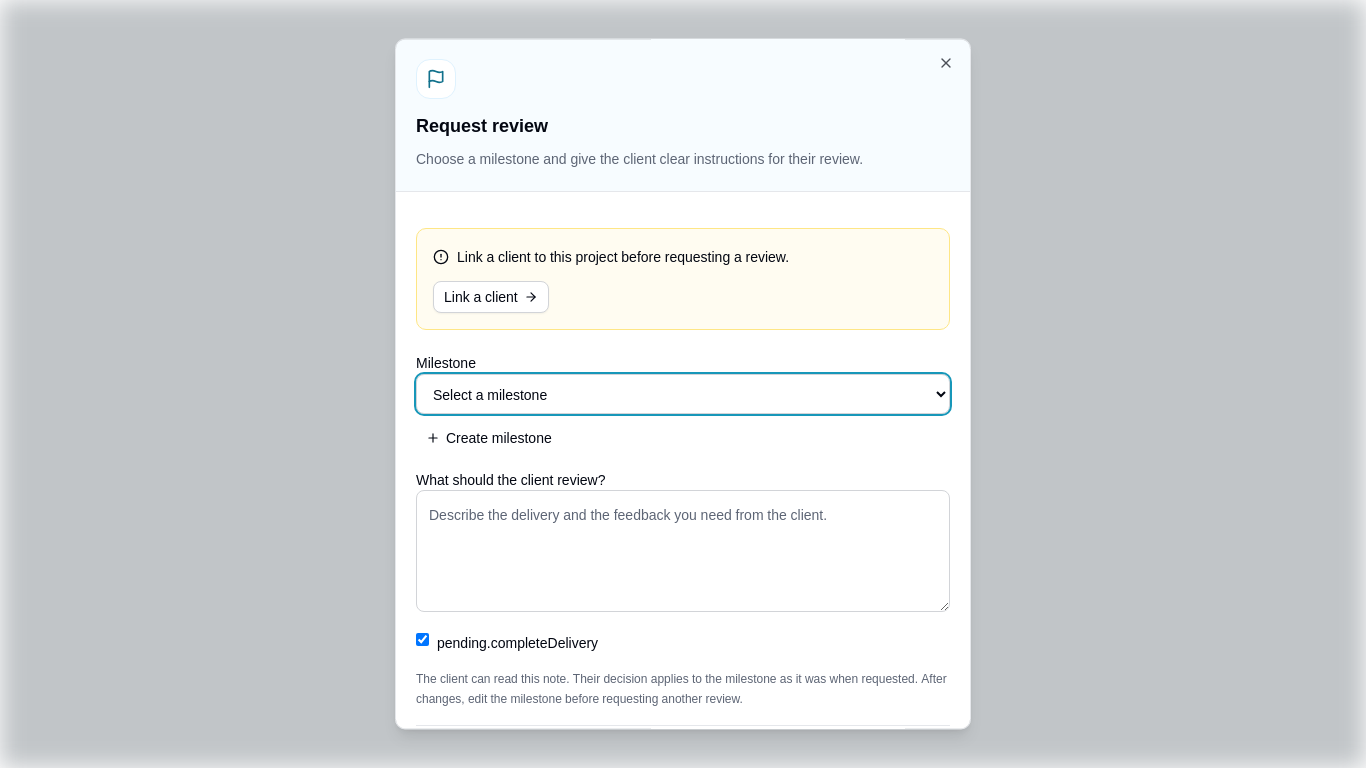
Test: explains and blocks unavailable recipients: CLIENT_REQUIRED
Select "Homepage design" in the dropdown labelled "Milestone": [683, 394] box [416,374,950,414]
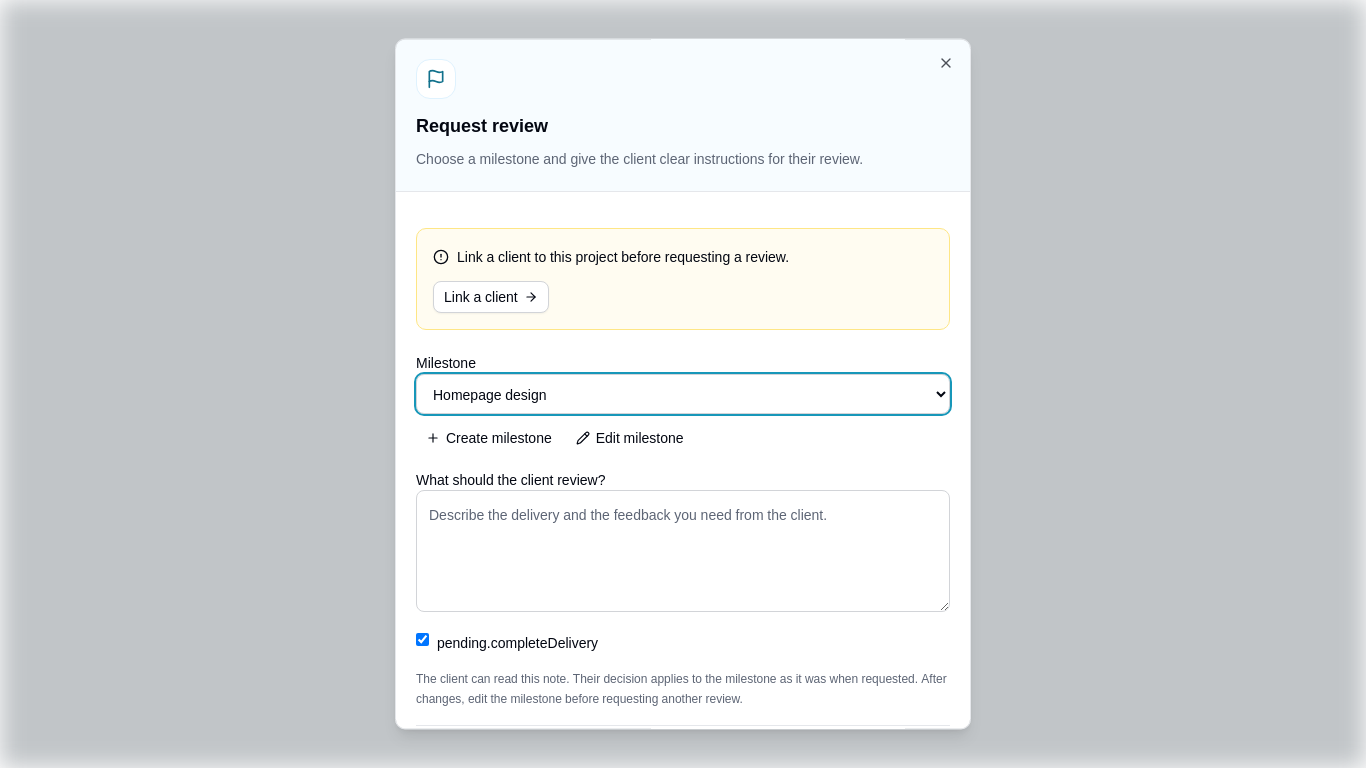
In the text box labelled "What should the client review?": [683, 551] box [416,490,950,612], type "  Please review the homepage  "
(page scrolled)
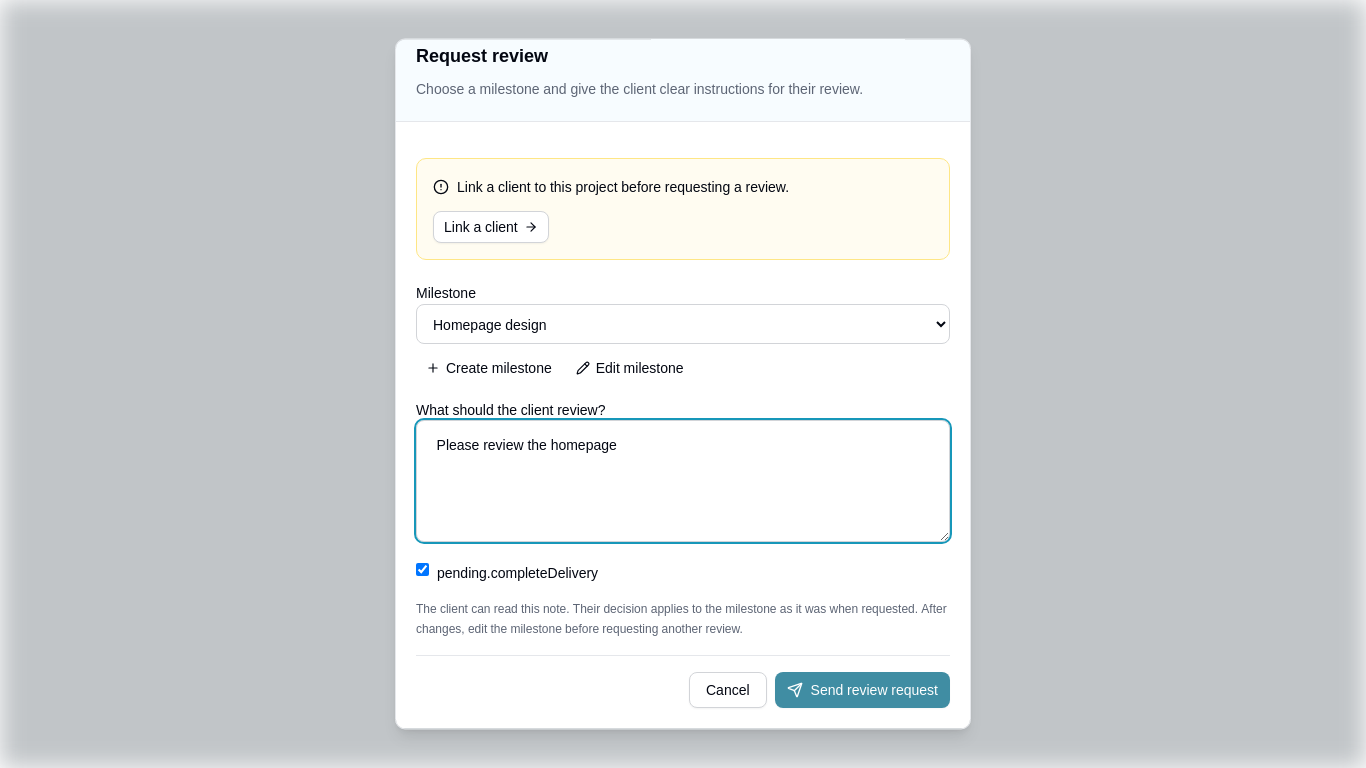
Expected: the text "Link a client to this project before requesting a review." is shown, [433,177,789,196]
Expected: the button "Send review request" is disabled, [775,672,950,708]
